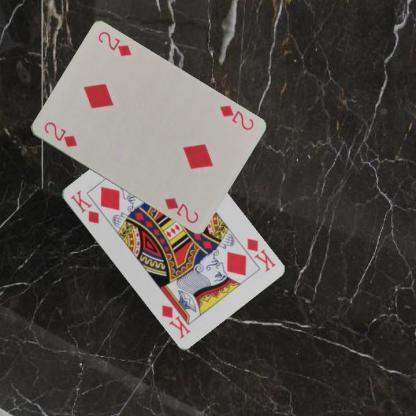2d: (216, 102, 257, 132), (41, 119, 79, 149)
Kd: (244, 235, 277, 273), (68, 188, 100, 226)
